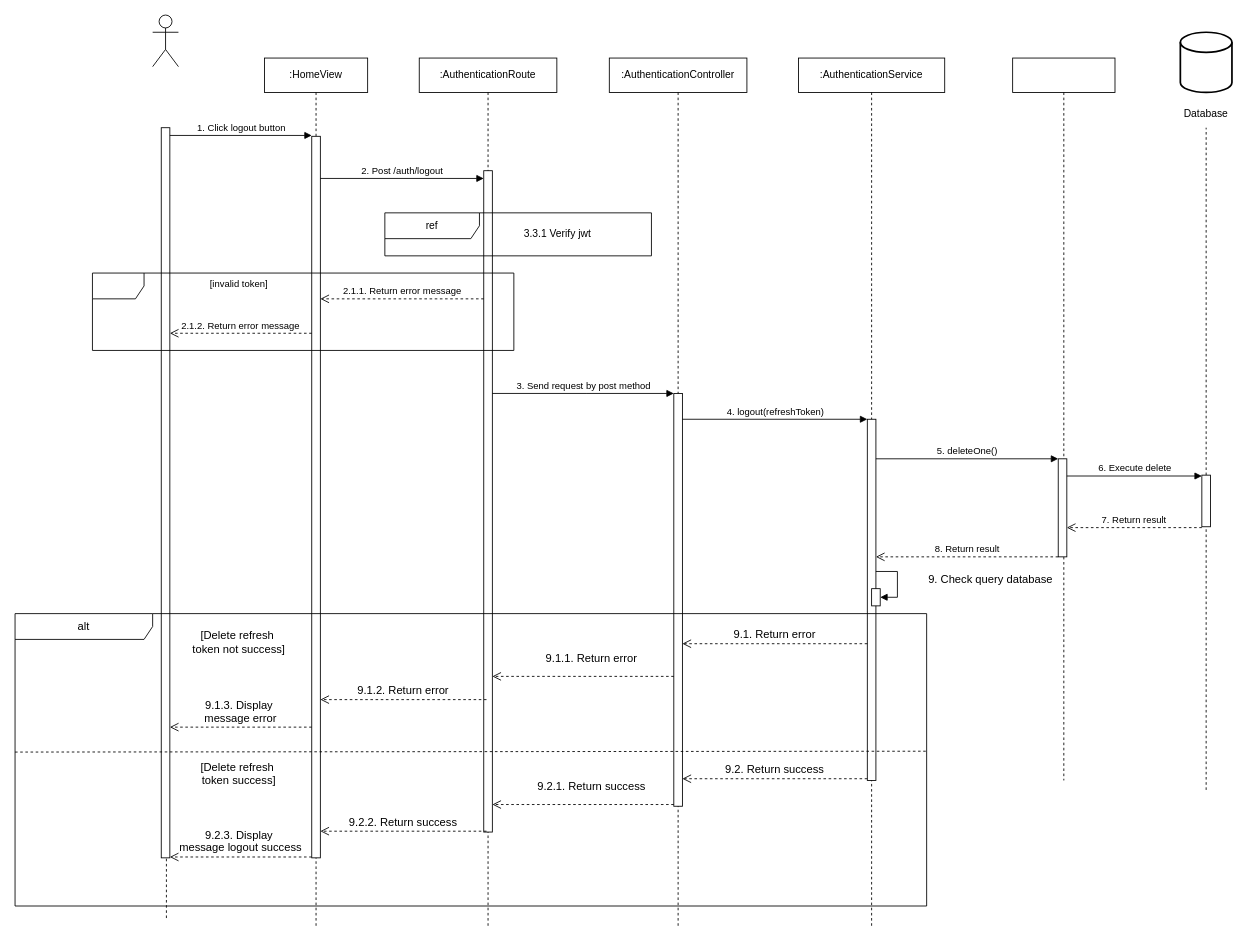
Image size: 1248x942. Some labels were removed from this diagram. Here are the shapes that lost their labels. From the top down, the box of each, then its label:
(152, 14, 178, 67): Customer / Seller staff/ Warehouse staff/ Admin
(92, 272, 514, 350): opt
(1012, 57, 1115, 780): :SessionModel
